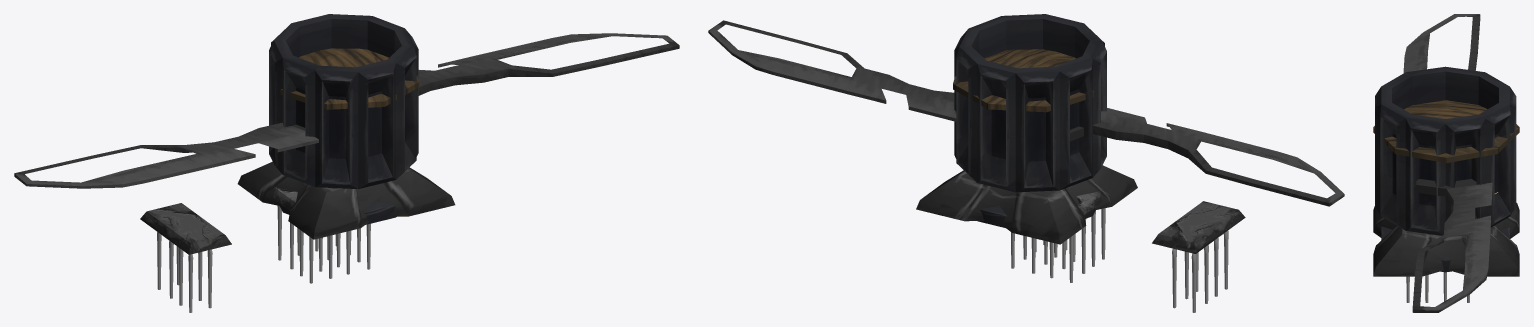
The model's file is FirePit.FBX.
The picture shows the model from 3 angles, left to right: view 1: azimuth 30°, elevation 25°; view 2: azimuth 150°, elevation 25°; view 3: azimuth 270°, elevation 25°; orthographic projection. The views are drawn at different scales.
Parts seen in each view (by area): view 1: FirePit, Blades, Standard, pressure plate small; view 2: FirePit, Blades, Standard, pressure plate small; view 3: FirePit, Standard, Blades.
Boxes of the visible parts, x1,y1,x2,y2 form: FirePit: [269, 14, 418, 224]; Blades: [14, 33, 679, 188]; Standard: [237, 48, 455, 239]; pressure plate small: [140, 203, 231, 254]; FirePit: [954, 14, 1106, 227]; Blades: [708, 20, 1344, 206]; Standard: [916, 49, 1137, 244]; pressure plate small: [1152, 201, 1245, 253]; FirePit: [1375, 66, 1516, 272]; Standard: [1373, 100, 1519, 276]; Blades: [1403, 14, 1492, 312].
Size of the model in its own units: 2.82 by 0.9081 by 0.5896.
